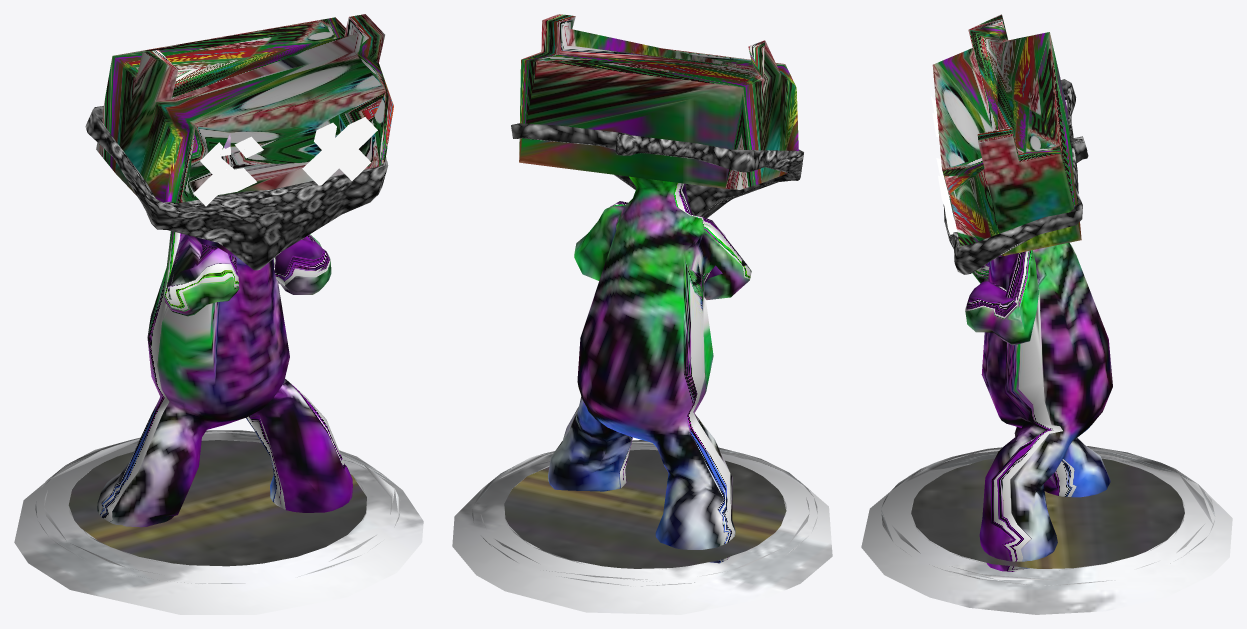
3 views of the same model, side by side, from view 1: azimuth 30°, elevation 25°; view 2: azimuth 150°, elevation 25°; view 3: azimuth 270°, elevation 25° (orthographic). The views are drawn at different scales.
Size of the model in its own units: 1.44 by 2.01 by 1.42.
Materials: 6 (5 with a texture image).
